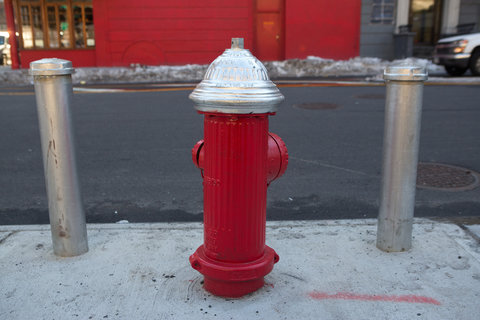bollard: (29, 59, 82, 255), (383, 65, 417, 246)
firehdyrant: (193, 41, 287, 301)
